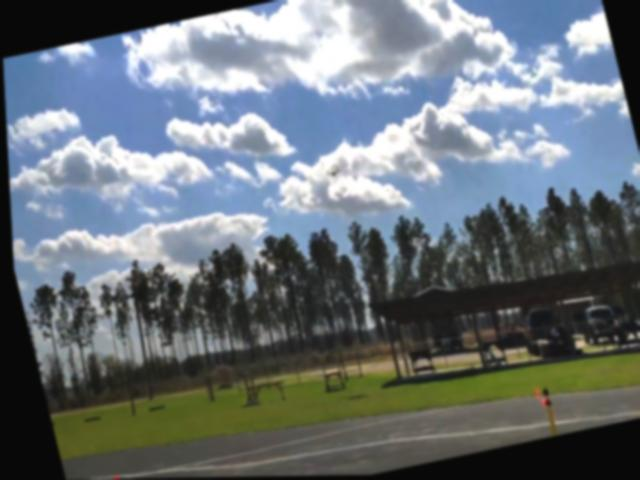plane: (313, 160, 352, 183)
